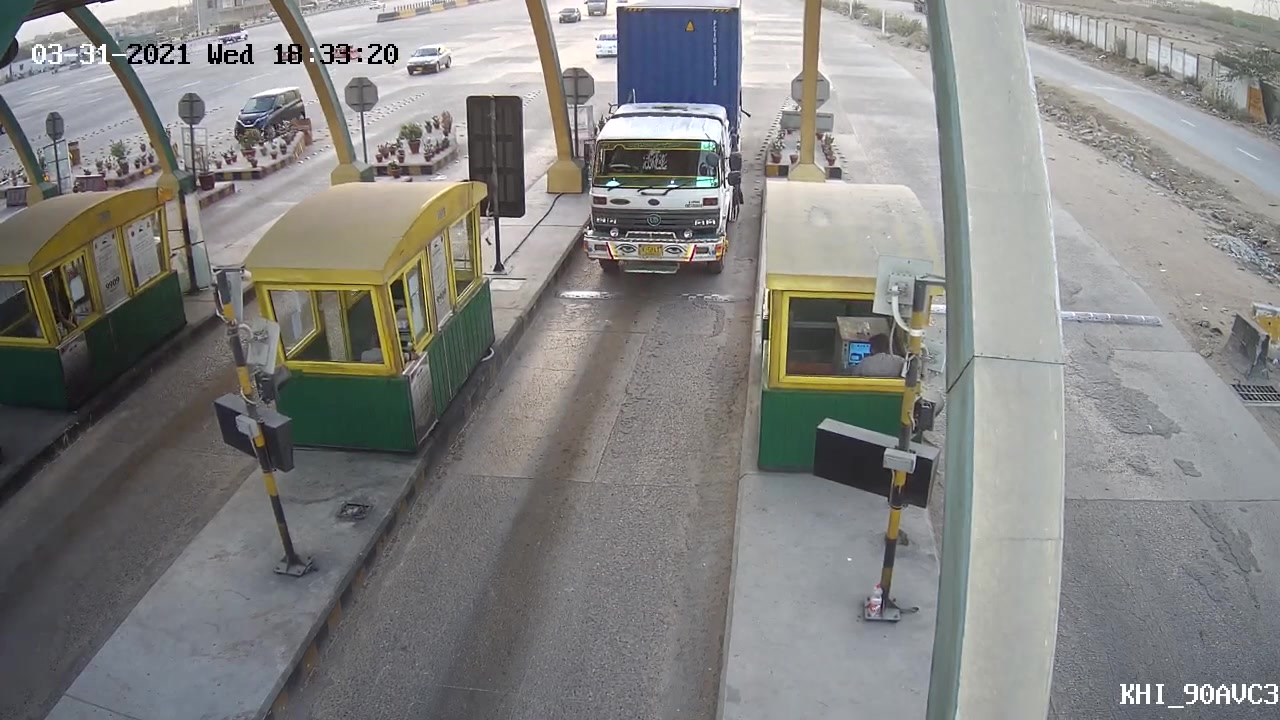F6: (570, 4, 768, 287)
